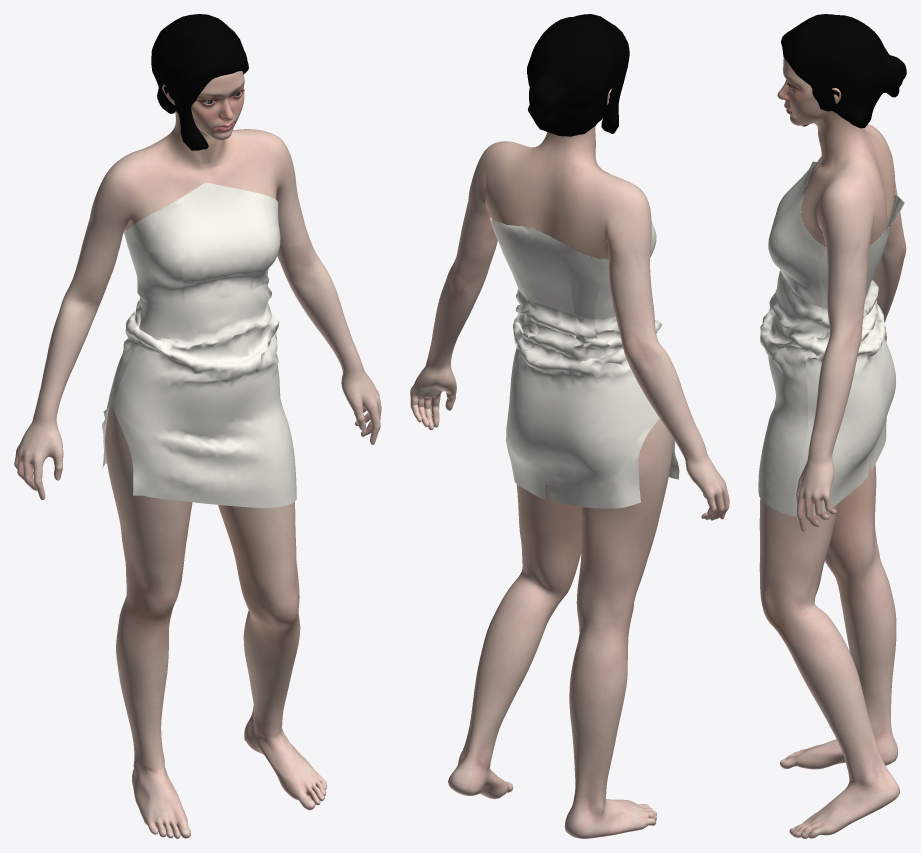
File: random.obj
3 views of the same model, side by side, from view 1: azimuth 30°, elevation 25°; view 2: azimuth 150°, elevation 25°; view 3: azimuth 270°, elevation 25° (orthographic). The views are drawn at different scales.
Size of the model in its own units: 775 by 1773 by 309.
